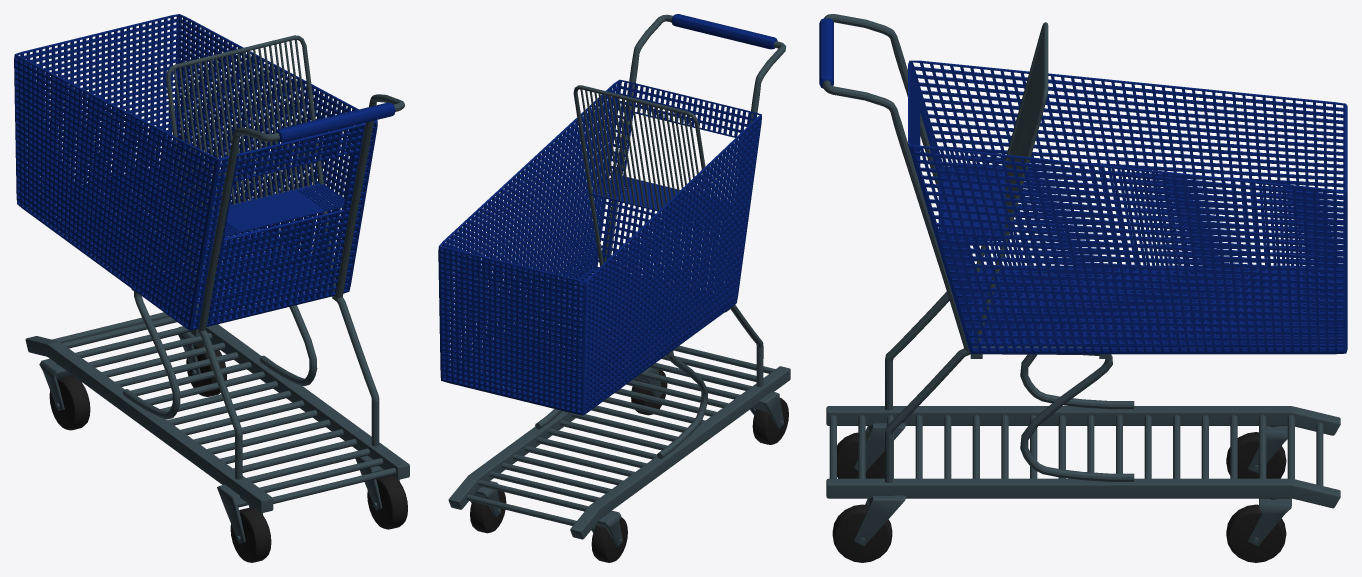
The model's file is shopping-cart.obj.
3 renders of one model, left to right at view 1: azimuth 30°, elevation 25°; view 2: azimuth 150°, elevation 25°; view 3: azimuth 270°, elevation 25°, orthographic. The views are drawn at different scales.
Visible parts, largest first — view 1: Cart Basket, Cart Bottom_Right_Frame, Cart Seat_Back, Cart Right_Suspension, Cart Right_Frame, Cart pCube13, Cart Seat_Bars, Cart Hand_Grip, Cart polySurface10, Cart polySurface4, Cart polySurface5, Cart polySurface9 (+20 smaller); view 2: Cart Basket, Cart Bottom_Right_Frame, Cart Seat_Back, Cart Right_Suspension, Cart Seat_Bars, Cart Right_Frame, Cart pCube13, Cart Hand_Grip, Cart polySurface10, Cart polySurface4, polySurface6 Cart, Cart polySurface11 (+20 smaller); view 3: Cart Basket, Cart Bottom_Right_Frame, Cart Right_Suspension, Cart Right_Frame, Cart polySurface11, Cart polySurface9, Cart polySurface5, Cart Seat_Back, Cart pCube13, polySurface6 Cart, Cart Seat_Bars, Cart polySurface10 (+2 smaller).
Boxes of the visible parts, x1=… form: Cart Basket: x1=14, y1=14, x2=377, y2=330; Cart Bottom_Right_Frame: x1=25, y1=324, x2=409, y2=512; Cart Seat_Back: x1=173, y1=39, x2=314, y2=212; Cart Right_Suspension: x1=122, y1=262, x2=379, y2=479; Cart Right_Frame: x1=198, y1=94, x2=404, y2=332; Cart pCube13: x1=190, y1=183, x2=348, y2=238; Cart Seat_Bars: x1=166, y1=35, x2=335, y2=319; Cart Hand_Grip: x1=276, y1=102, x2=395, y2=142; Cart polySurface10: x1=49, y1=375, x2=90, y2=430; Cart polySurface4: x1=230, y1=507, x2=271, y2=562; Cart polySurface5: x1=367, y1=475, x2=407, y2=529; Cart polySurface9: x1=217, y1=455, x2=399, y2=543; Cart Basket: x1=438, y1=79, x2=761, y2=415; Cart Bottom_Right_Frame: x1=448, y1=366, x2=790, y2=539; Cart Seat_Back: x1=580, y1=89, x2=704, y2=219; Cart Right_Suspension: x1=535, y1=287, x2=763, y2=458; Cart Seat_Bars: x1=573, y1=85, x2=721, y2=285; Cart Right_Frame: x1=603, y1=14, x2=786, y2=291; Cart pCube13: x1=589, y1=174, x2=733, y2=222; Cart Hand_Grip: x1=671, y1=14, x2=777, y2=49; Cart polySurface10: x1=591, y1=517, x2=627, y2=562; Cart polySurface4: x1=752, y1=398, x2=788, y2=444; polySurface6 Cart: x1=470, y1=481, x2=622, y2=546; Cart polySurface11: x1=470, y1=490, x2=506, y2=533; Cart Basket: x1=908, y1=60, x2=1347, y2=354; Cart Bottom_Right_Frame: x1=826, y1=406, x2=1340, y2=508; Cart Right_Suspension: x1=885, y1=273, x2=1134, y2=482; Cart Right_Frame: x1=823, y1=14, x2=969, y2=352; Cart polySurface11: x1=1226, y1=504, x2=1286, y2=562; Cart polySurface9: x1=854, y1=423, x2=905, y2=546; Cart polySurface5: x1=832, y1=504, x2=892, y2=562; Cart Seat_Back: x1=1005, y1=31, x2=1043, y2=227; Cart pCube13: x1=943, y1=166, x2=1007, y2=241; polySurface6 Cart: x1=1248, y1=426, x2=1291, y2=545; Cart Seat_Bars: x1=973, y1=22, x2=1048, y2=347; Cart polySurface10: x1=1226, y1=432, x2=1286, y2=478.
Bounding box in the file's own units: 7.33 × 18.41 × 18.45.
